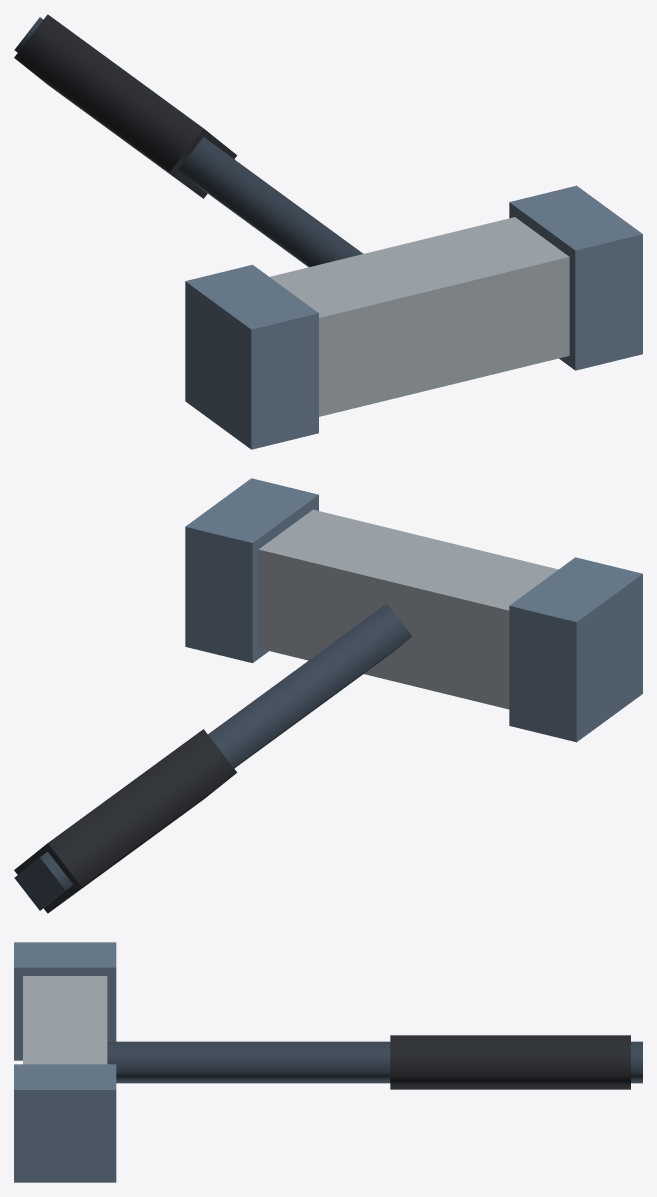
3 views of the same model, one above another, from view 1: azimuth 30°, elevation 25°; view 2: azimuth 150°, elevation 25°; view 3: azimuth 270°, elevation 25° (orthographic). The views are drawn at different scales.
Parts seen in each view (by area): view 1: dweller_tool_hammer; view 2: dweller_tool_hammer; view 3: dweller_tool_hammer.
Part boxes in pixels (x1=…): dweller_tool_hammer: x1=14, y1=14, x2=642, y2=449; dweller_tool_hammer: x1=14, y1=478, x2=642, y2=913; dweller_tool_hammer: x1=14, y1=942, x2=642, y2=1182.
Bounding box in the file's own units: 0.29 × 0.085 × 0.5225.
